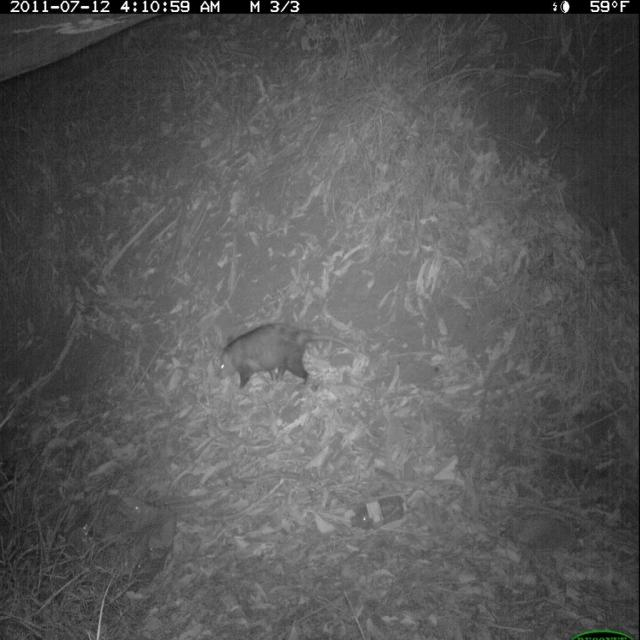opossum: (216, 323, 362, 393)
